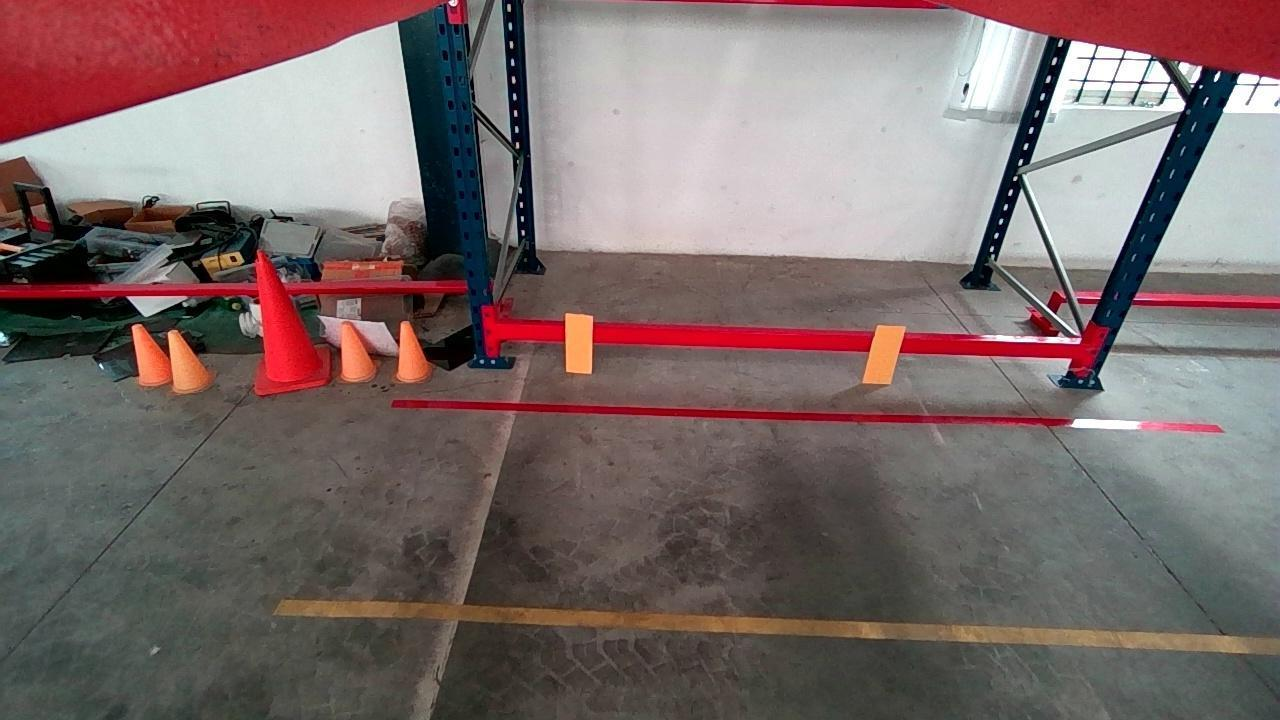h_rack: (499, 320, 1081, 352)
orange_strip: (864, 323, 904, 384), (566, 314, 592, 373)
red_line: (389, 396, 1225, 433)
yellow_line: (272, 600, 1280, 657)
